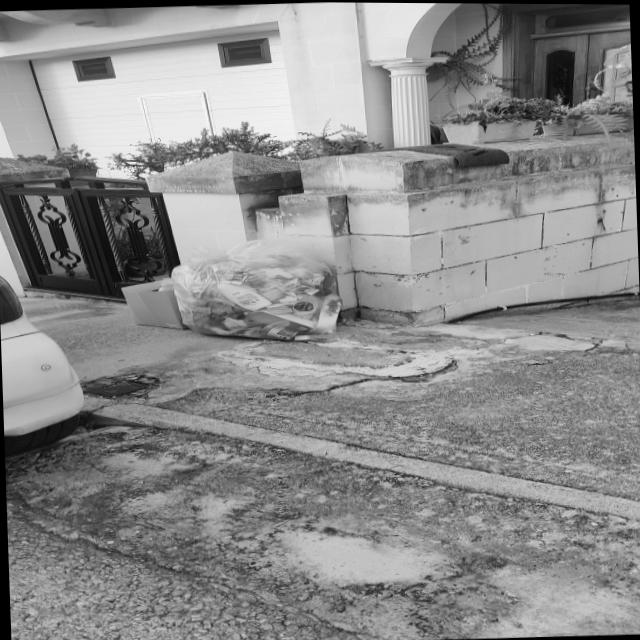Others Waste: (121, 278, 182, 328)
Recyclable Material -Grey Bags-: (170, 237, 344, 340)
